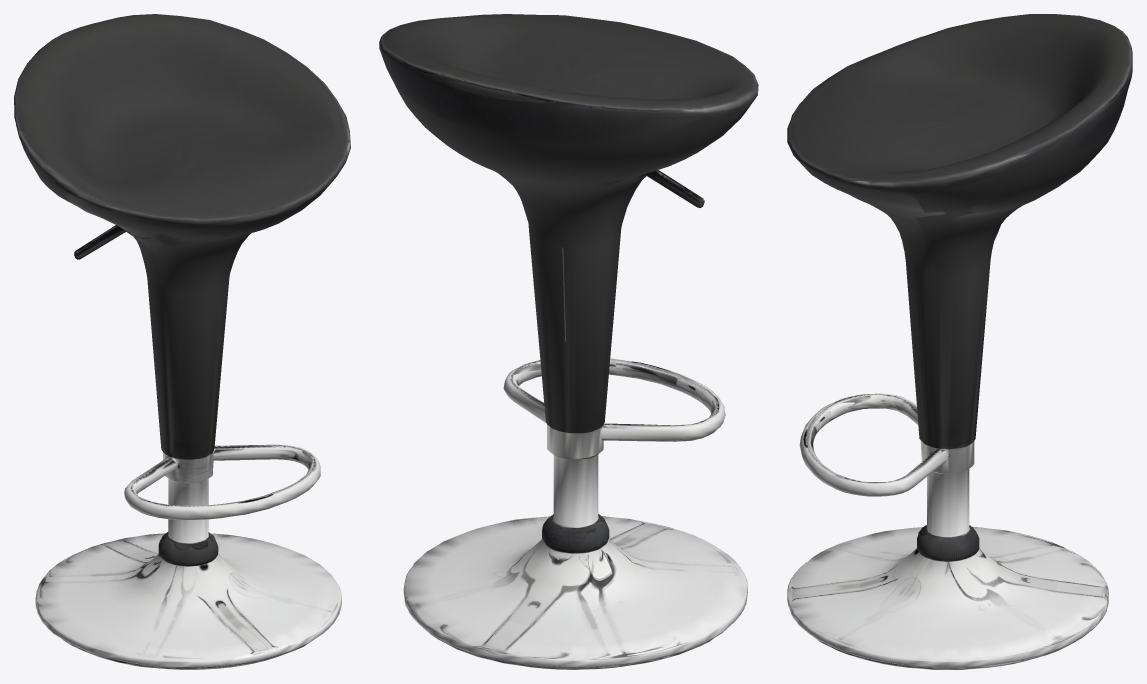
File: sleek_swivel_stool_0125200858_texture.glb
3 renders of one model, left to right at view 1: azimuth 30°, elevation 25°; view 2: azimuth 150°, elevation 25°; view 3: azimuth 270°, elevation 25°, orthographic. The views are drawn at different scales.
Parts seen in each view (by area): view 1: Mesh_0; view 2: Mesh_0; view 3: Mesh_0.
Part boxes in pixels (x1,y1,x2,y2): Mesh_0: [14, 14, 350, 669]; Mesh_0: [379, 14, 758, 669]; Mesh_0: [787, 14, 1132, 669].
Size of the model in its own units: 0.4922 by 0.8382 by 0.4768.
1 material, 1 textured.
